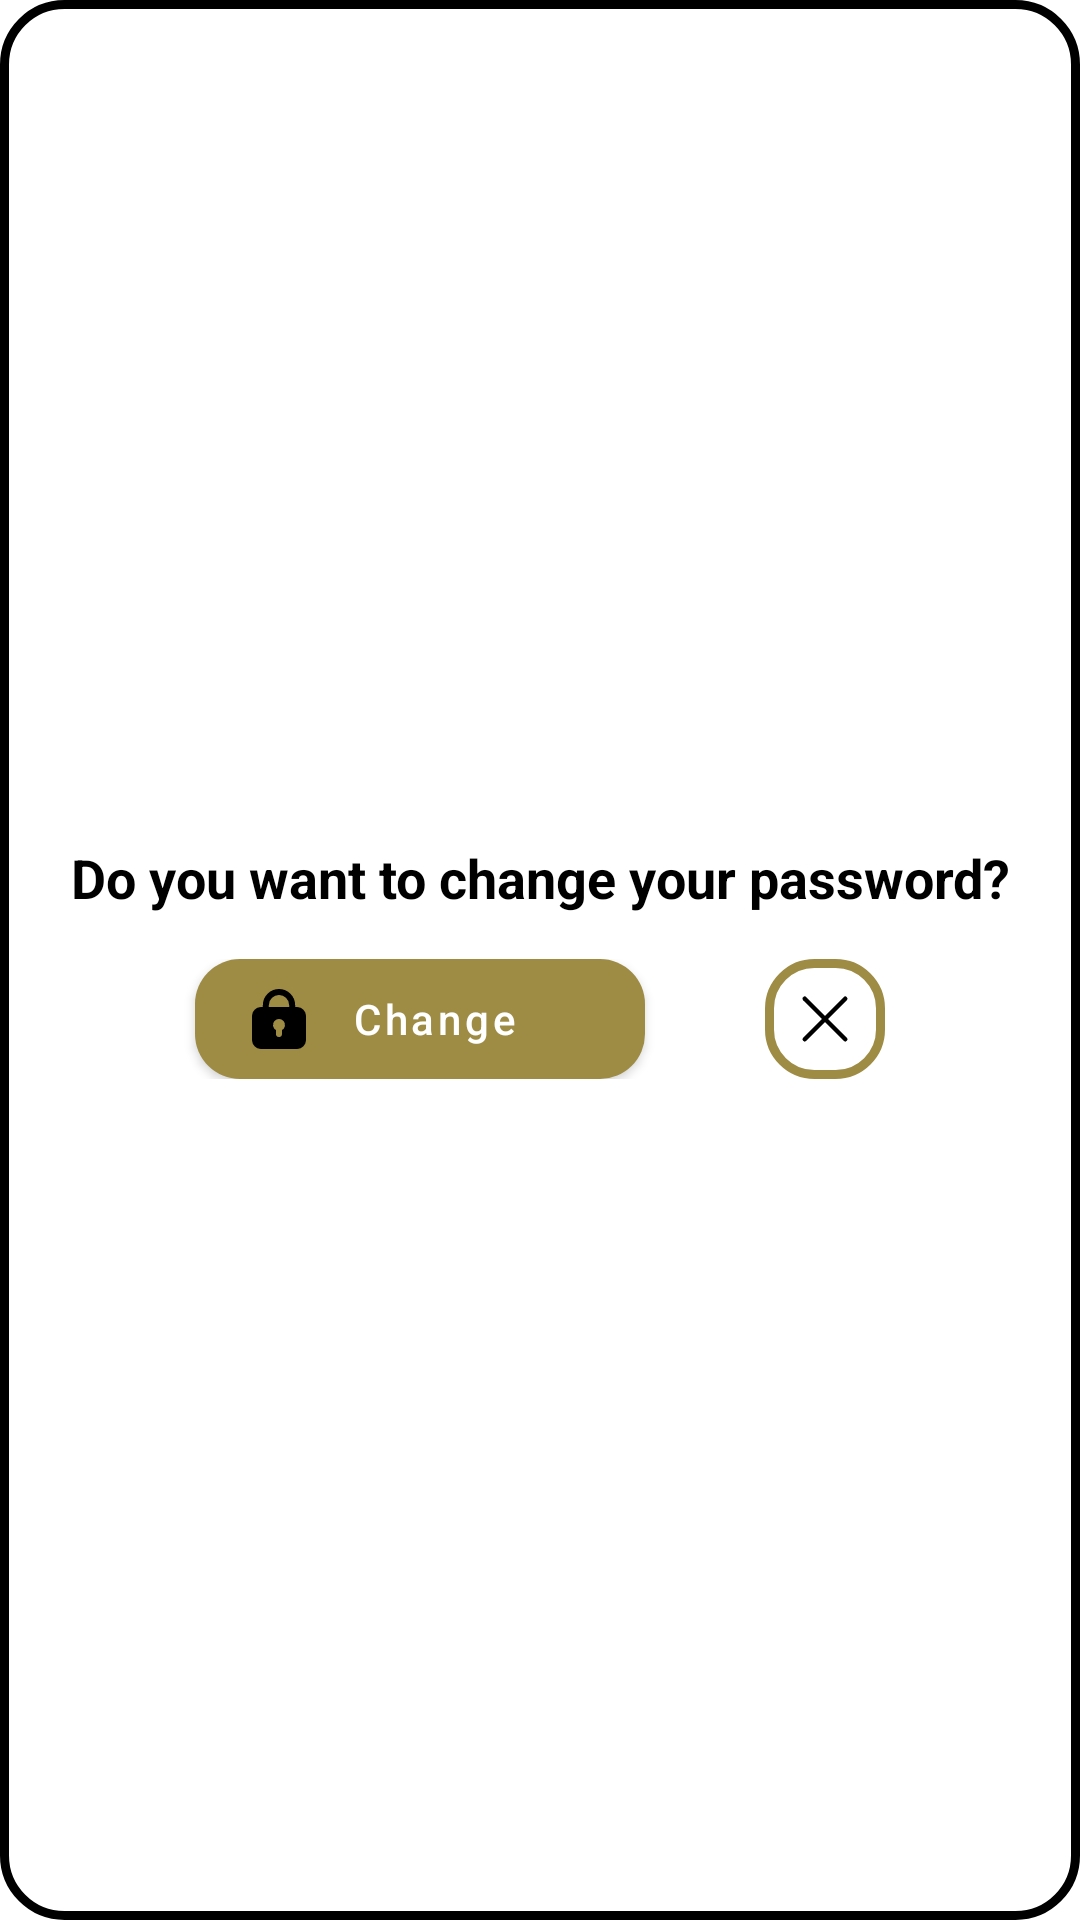

Icon click points for this 1080 × 1920 phone screenshot, format (x,y):
Close: (825,1019)
